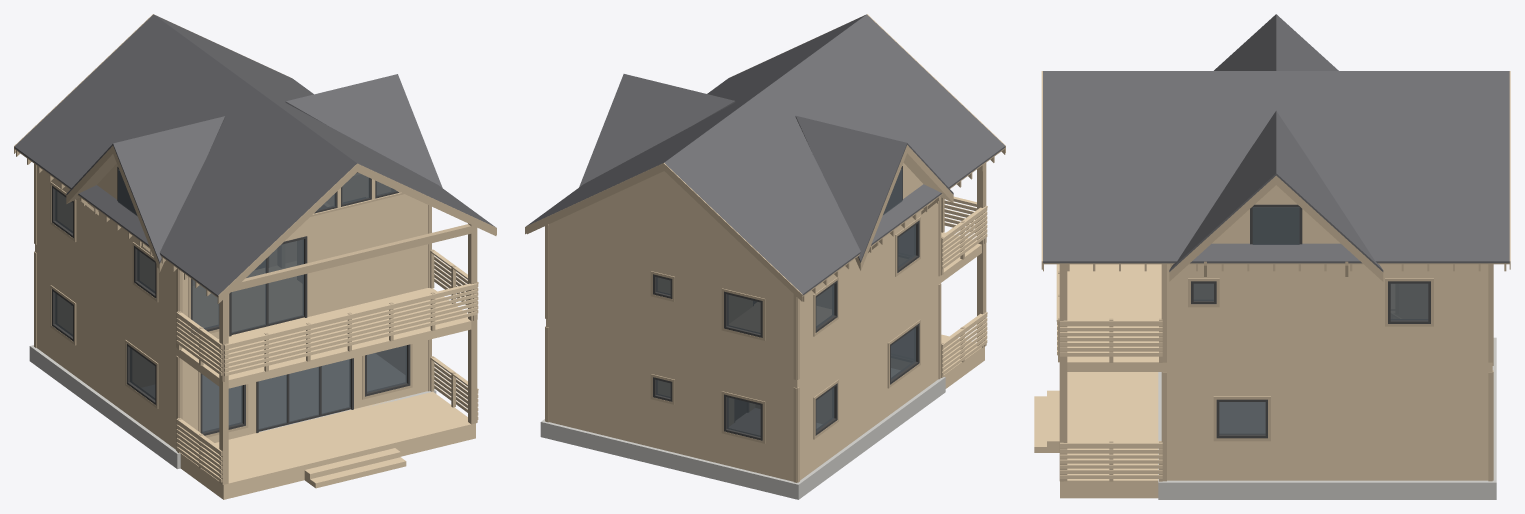
Rendered from cabin-2floor-3br-120_3d.glb.
3 renders of one model, left to right at view 1: azimuth 30°, elevation 25°; view 2: azimuth 150°, elevation 25°; view 3: azimuth 270°, elevation 25°, orthographic. The views are drawn at different scales.
Visible parts, largest first — view 1: wood, roof_tiles, glass, trim, slab, frame, ceiling, wood_in, sheathing, rafters; view 2: wood, roof_tiles, trim, slab, glass, frame, sheathing, wood_in, ceiling, rafters; view 3: wood, roof_tiles, slab, trim, glass, frame, sheathing, wood_in, ceiling.
Part boxes in pixels (x1=…): wood: x1=35, y1=163, x2=478, y2=499; roof_tiles: x1=14, y1=14, x2=494, y2=296; glass: x1=55, y1=169, x2=406, y2=432; trim: x1=14, y1=14, x2=496, y2=484; slab: x1=29, y1=345, x2=436, y2=469; frame: x1=52, y1=166, x2=410, y2=435; ceiling: x1=36, y1=244, x2=304, y2=346; wood_in: x1=133, y1=173, x2=390, y2=386; sheathing: x1=14, y1=146, x2=218, y2=297; rafters: x1=16, y1=150, x2=496, y2=303; wood: x1=546, y1=163, x2=987, y2=481; roof_tiles: x1=526, y1=14, x2=1005, y2=295; trim: x1=525, y1=14, x2=1005, y2=482; slab: x1=540, y1=368, x2=945, y2=499; glass: x1=656, y1=169, x2=915, y2=436; frame: x1=653, y1=166, x2=919, y2=440; sheathing: x1=802, y1=145, x2=1005, y2=296; wood_in: x1=658, y1=278, x2=831, y2=425; ceiling: x1=546, y1=276, x2=939, y2=380; rafters: x1=527, y1=149, x2=1005, y2=301; wood: x1=1034, y1=185, x2=1492, y2=498; roof_tiles: x1=1043, y1=14, x2=1509, y2=271; slab: x1=1158, y1=337, x2=1496, y2=499; trim: x1=1041, y1=71, x2=1510, y2=481; glass: x1=1193, y1=207, x2=1428, y2=434; frame: x1=1191, y1=204, x2=1430, y2=438; sheathing: x1=1043, y1=175, x2=1509, y2=281; wood_in: x1=1194, y1=284, x2=1427, y2=318; ceiling: x1=1163, y1=284, x2=1492, y2=363.
Bounding box in the file's own units: 8.9 × 9.19 × 11.12.
